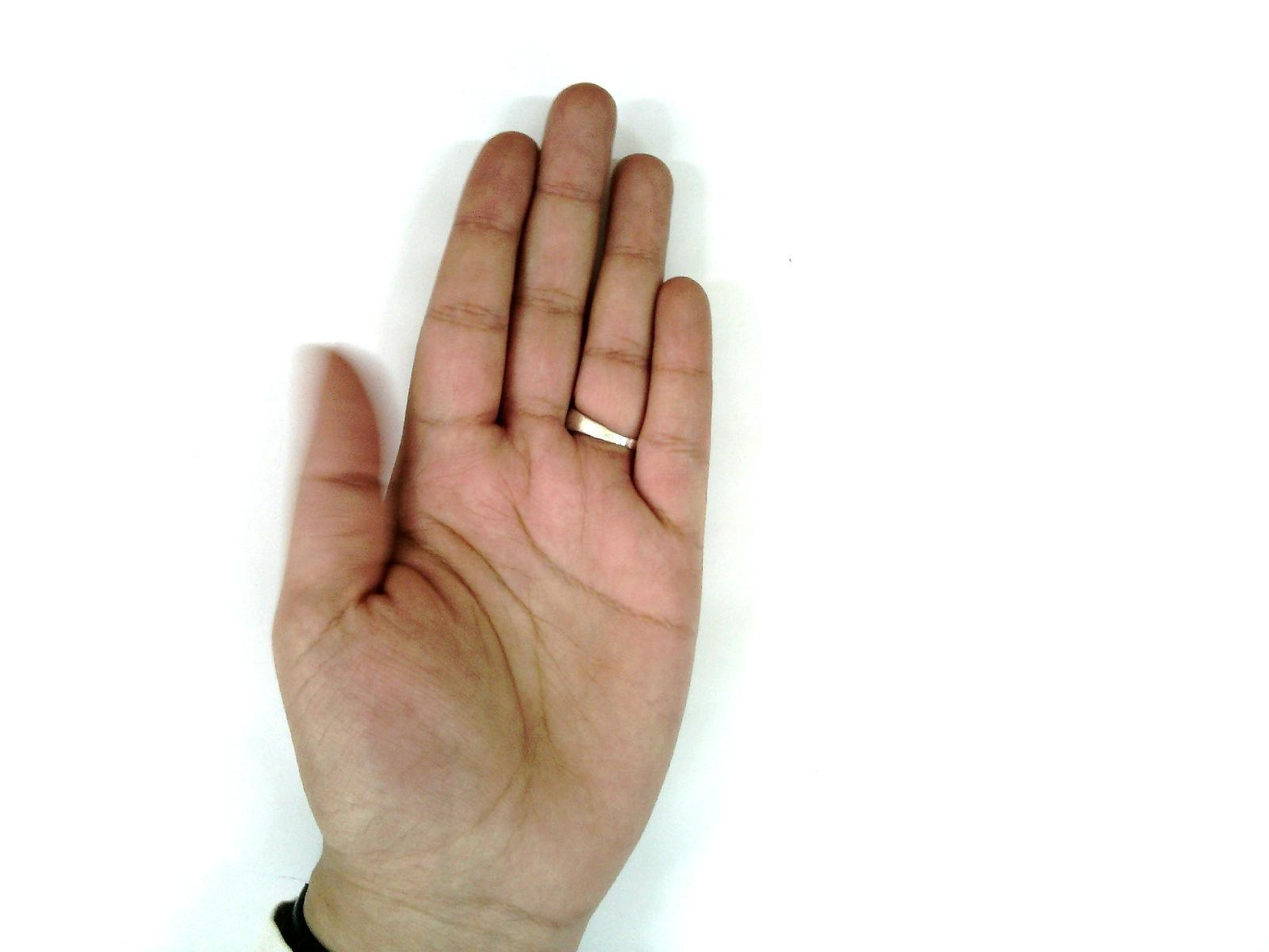open_palm: (267, 82, 719, 927)
